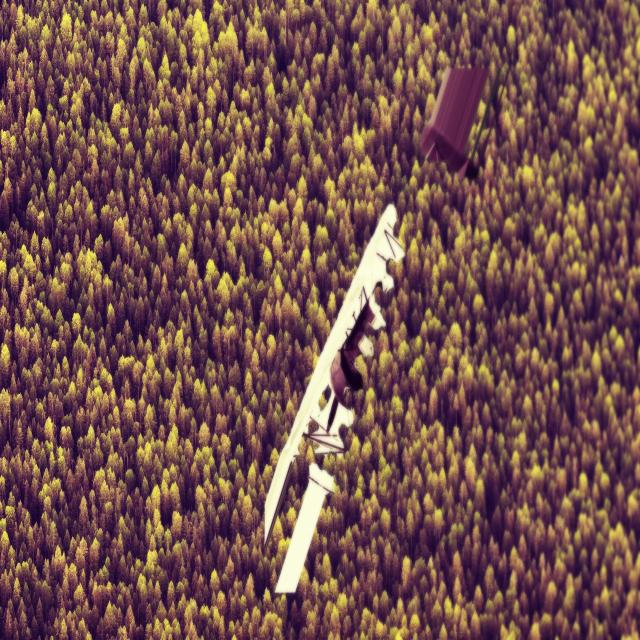airplane: (262, 201, 406, 594)
